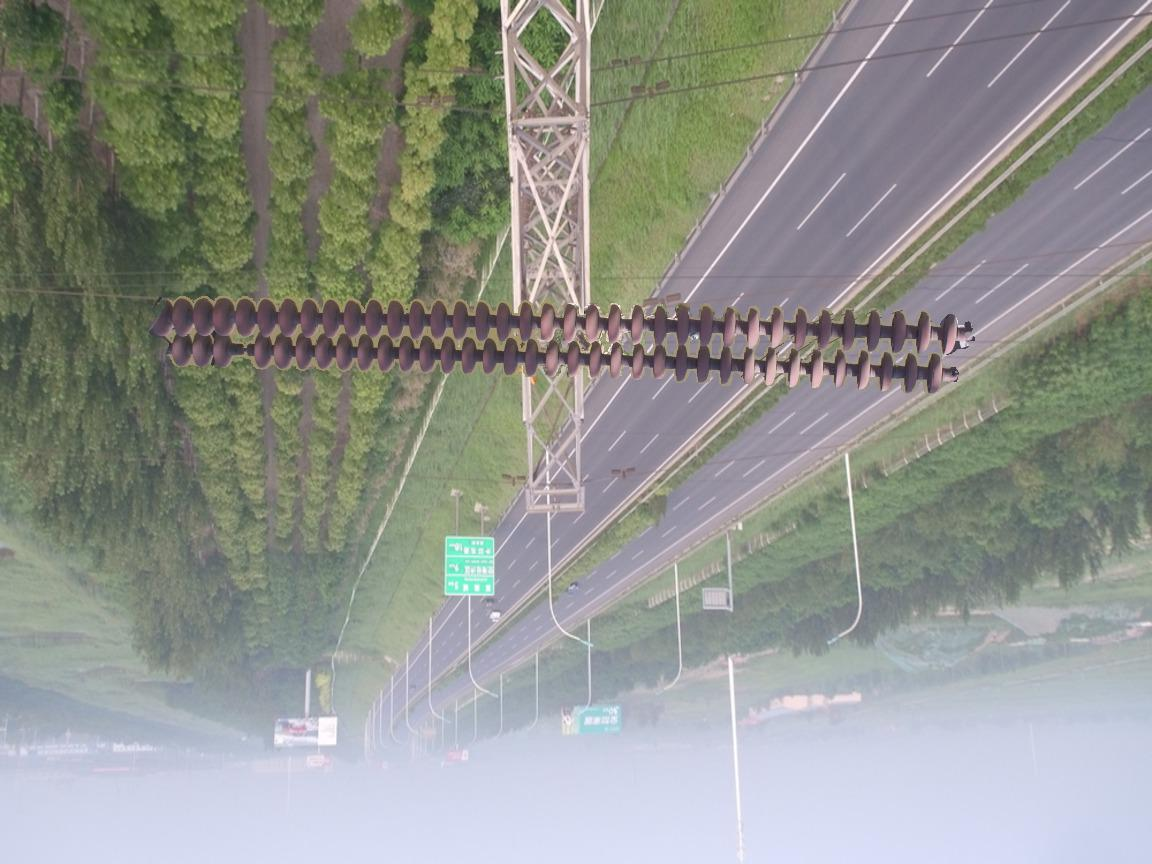insulator: (147, 291, 968, 399)
insulator_stringdrop: (209, 334, 276, 373)
